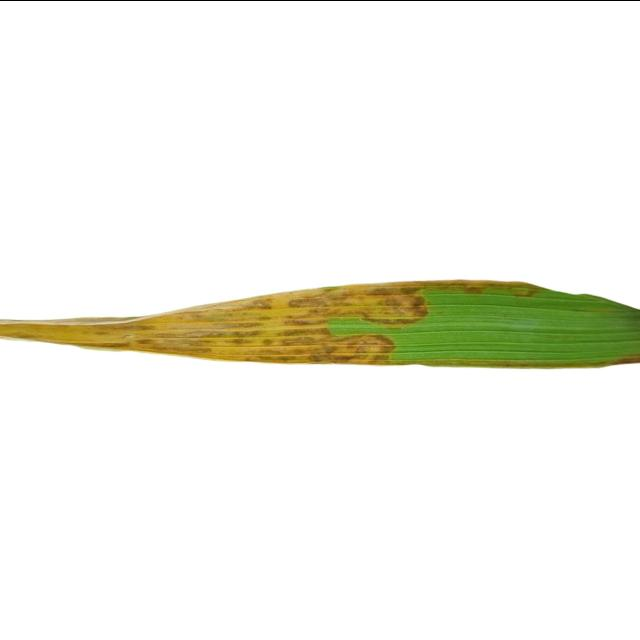Leaf scald: (0, 210, 640, 412)
